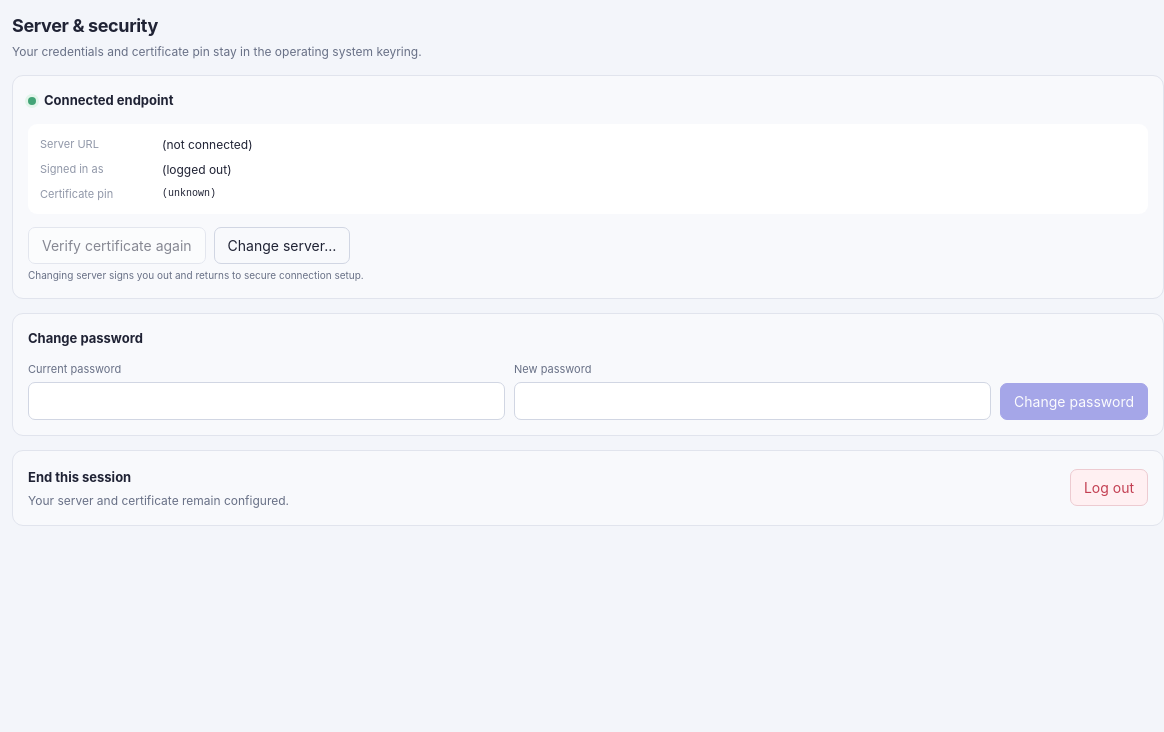
Test case: SettingsServer › renders the success message after a successful change
The width and height of the screenshot is (1164, 732).
Type "a" into the password field with test id "old-password" at point(266, 401), box [28, 382, 505, 420]
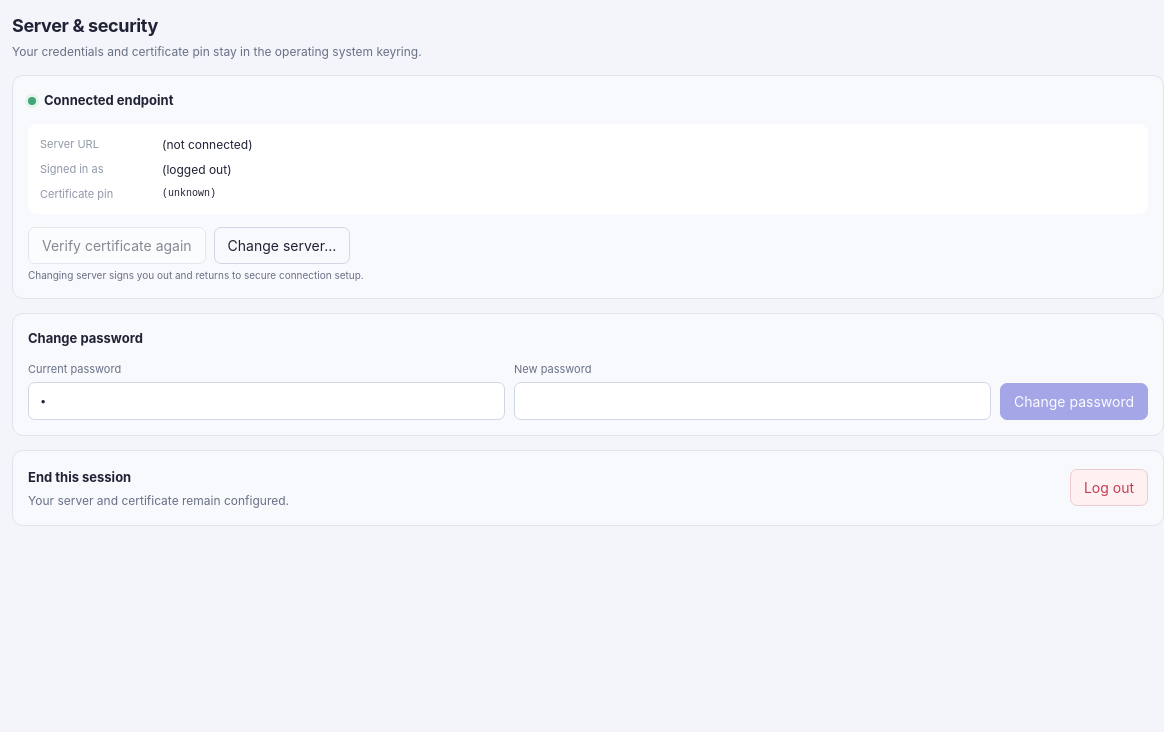
Type "b" into the password field with test id "new-password" at point(753, 401), box [514, 382, 991, 420]
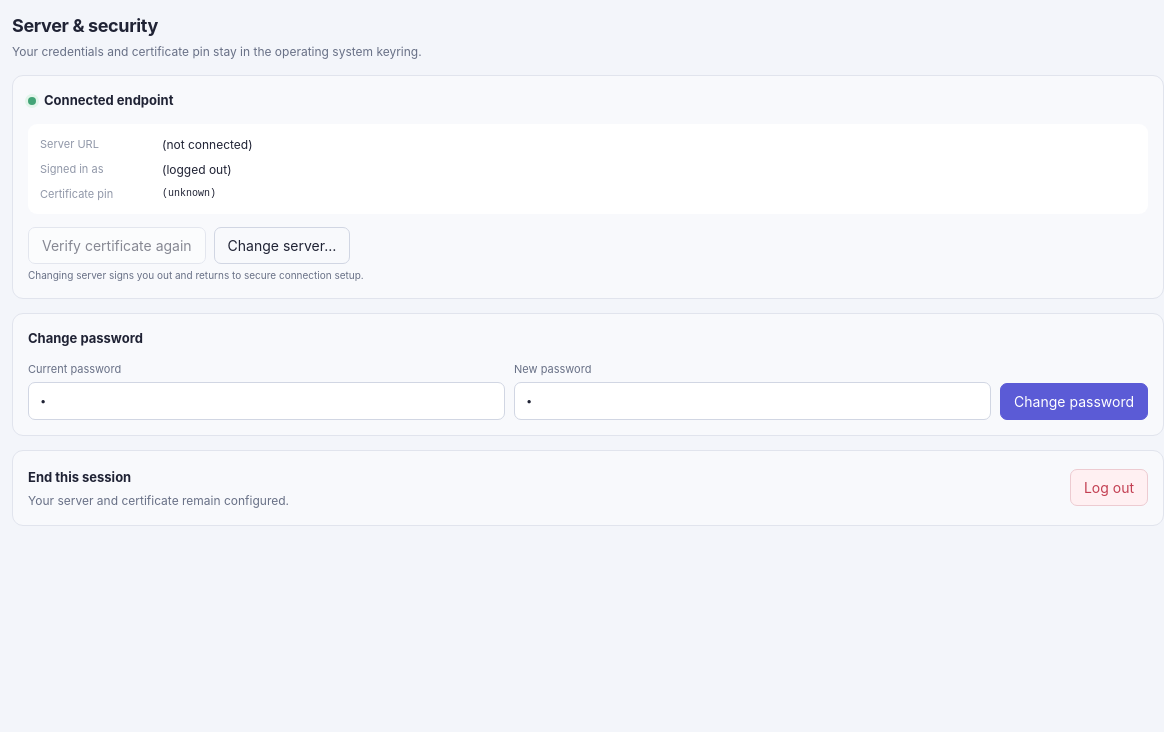
Click the button with test id "change-password-submit" at point(1074, 402), box [1000, 383, 1148, 420]
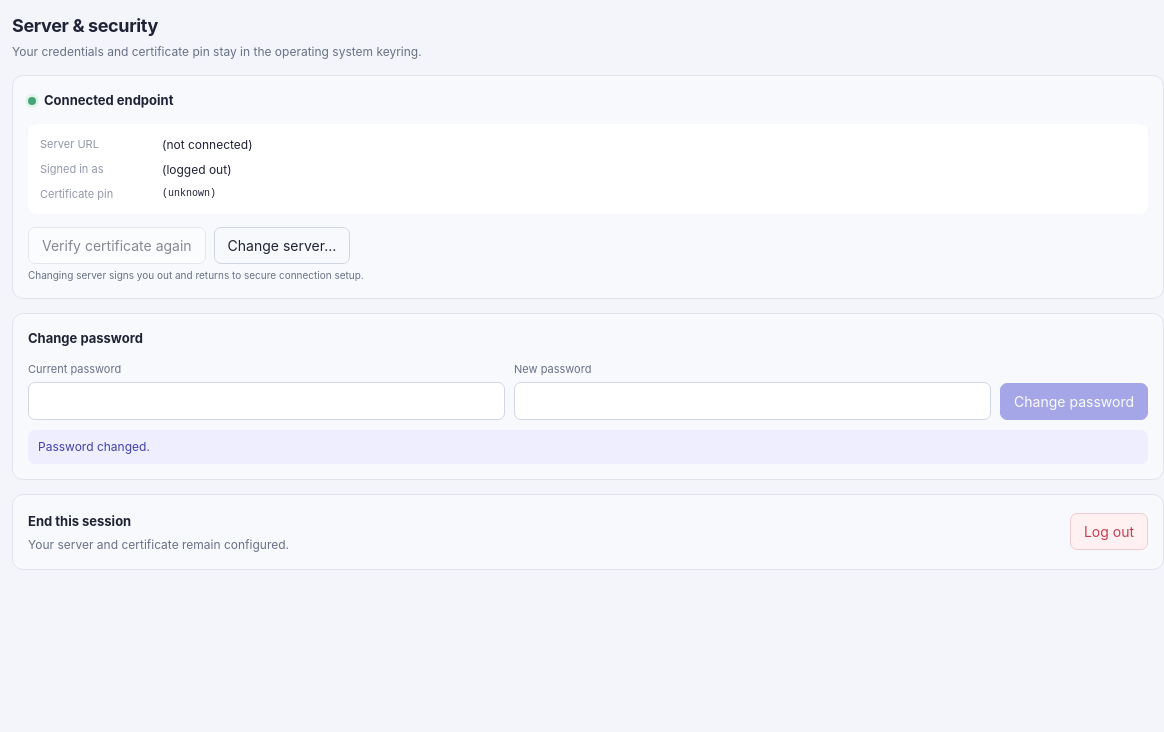
Now the text "Password changed." is shown, box [28, 430, 1148, 464]
Now the text with test id "change-password-message" shows "Password changed", box [38, 439, 150, 454]
